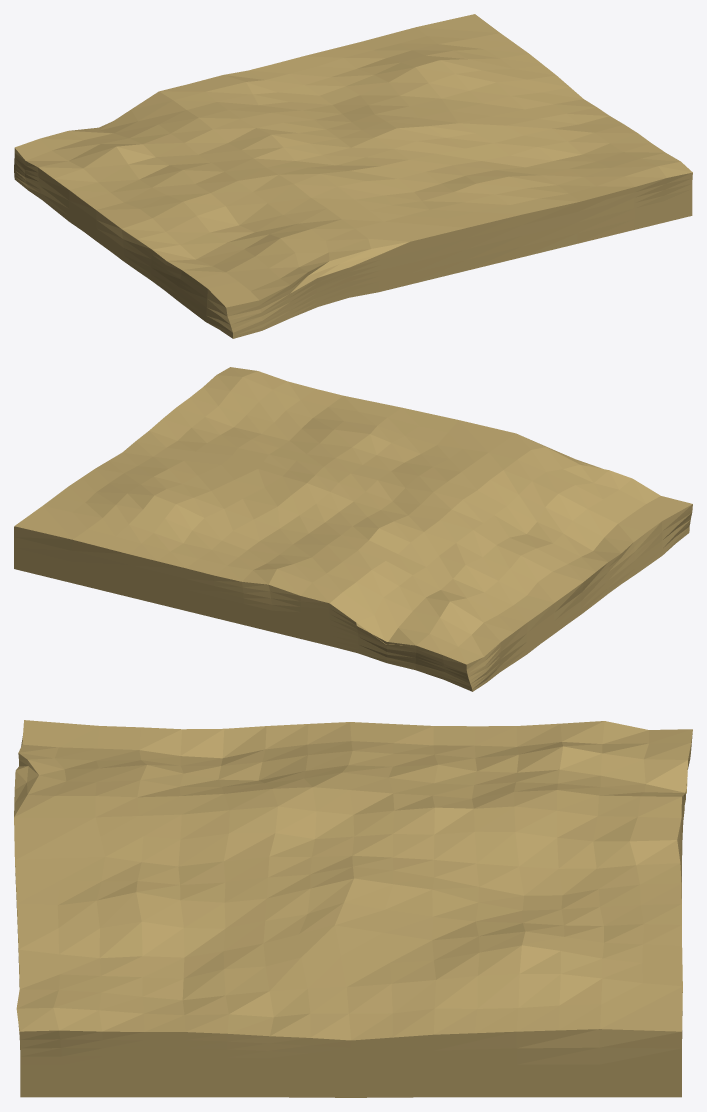
File: Sand.fbx
3 views of the same model, one above another, from view 1: azimuth 30°, elevation 25°; view 2: azimuth 150°, elevation 25°; view 3: azimuth 270°, elevation 25° (orthographic). The views are drawn at different scales.
Visible parts, largest first — view 1: Cube.001; view 2: Cube.001; view 3: Cube.001.
Boxes of the visible parts, x1,y1,x2,y2 form: Cube.001: (14, 14, 692, 338); Cube.001: (14, 367, 692, 691); Cube.001: (14, 720, 692, 1097).
Bounding box in the file's own units: 3.65 × 0.5255 × 3.02.
